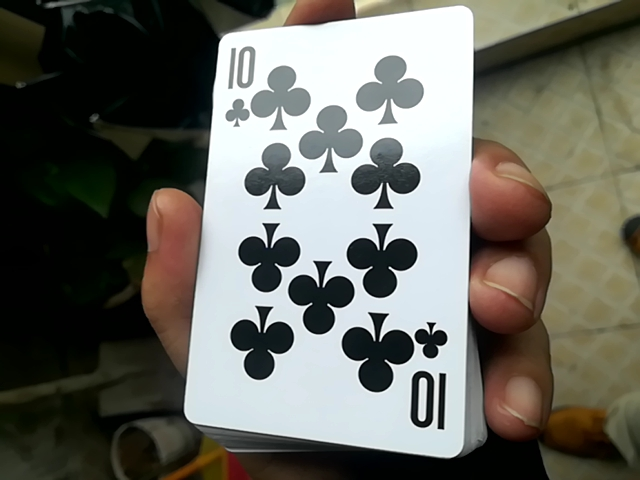mh 10: (180, 4, 474, 444)
